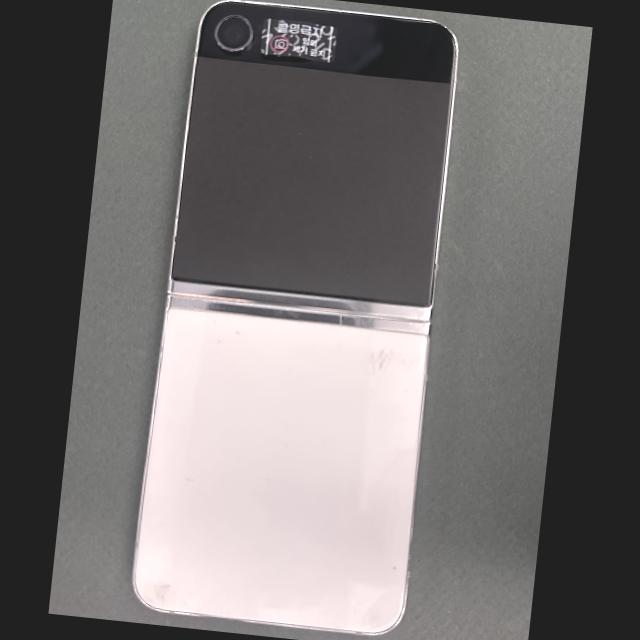lens: (215, 16, 253, 52)
phone: (134, 1, 457, 634)
sticker: (261, 19, 336, 62)
